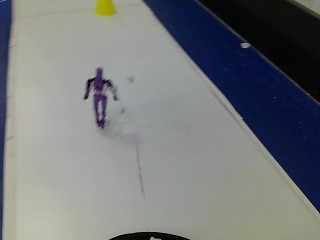pedestrian: (79, 60, 121, 133)
